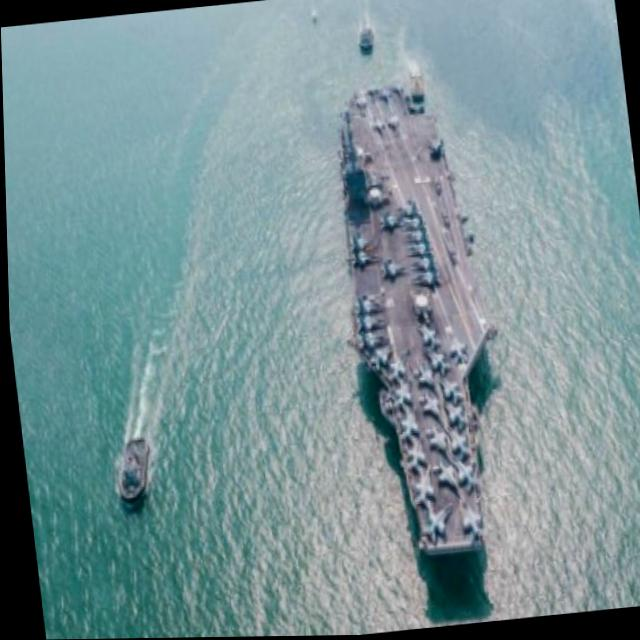ship2: (337, 82, 493, 561)
